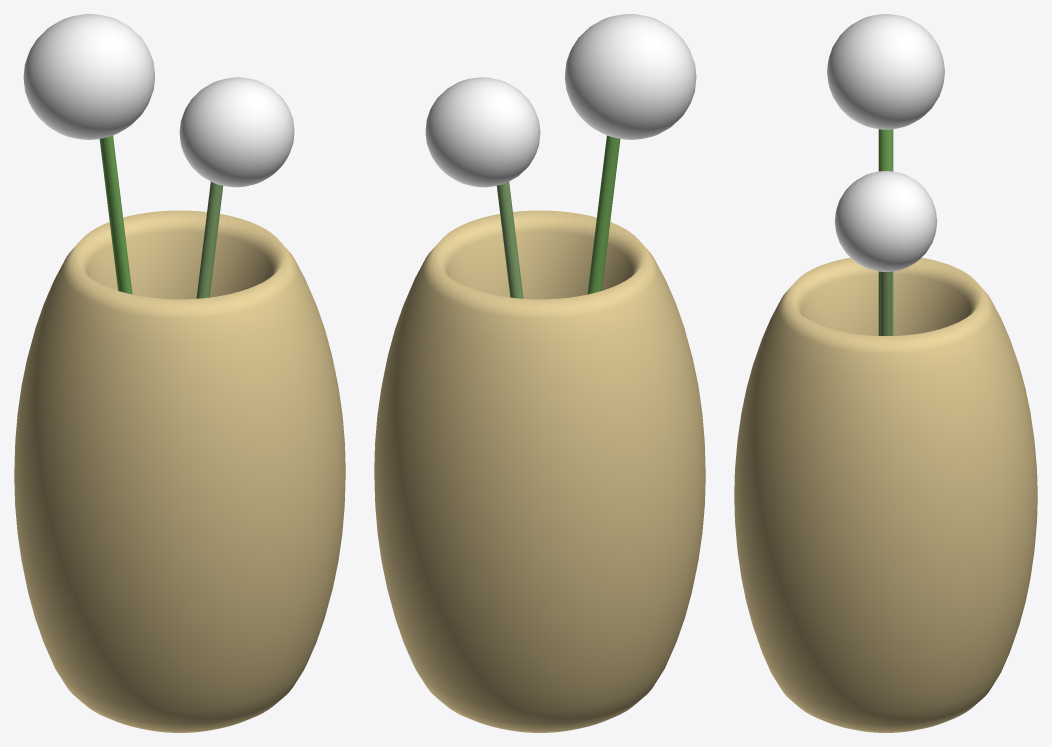
File: future_vase.glb
3 views of the same model, side by side, from view 1: azimuth 30°, elevation 25°; view 2: azimuth 150°, elevation 25°; view 3: azimuth 270°, elevation 25° (orthographic). The views are drawn at different scales.
Parts seen in each view (by area): view 1: Sphere_2, Sphere.002_6, Sphere.001_4, Cylinder.001_5, Cylinder_3; view 2: Sphere_2, Sphere.002_6, Sphere.001_4, Cylinder.001_5, Cylinder_3; view 3: Sphere_2, Sphere.002_6, Sphere.001_4, Cylinder.001_5, Cylinder_3.
Part boxes in pixels (x1=…): Sphere_2: x1=14, y1=210, x2=345, y2=732; Sphere.002_6: x1=23, y1=14, x2=154, y2=139; Sphere.001_4: x1=179, y1=77, x2=294, y2=187; Cylinder.001_5: x1=99, y1=135, x2=132, y2=294; Cylinder_3: x1=196, y1=182, x2=223, y2=298; Sphere_2: x1=374, y1=210, x2=705, y2=732; Sphere.002_6: x1=565, y1=14, x2=696, y2=139; Sphere.001_4: x1=425, y1=77, x2=540, y2=187; Cylinder.001_5: x1=587, y1=135, x2=620, y2=294; Cylinder_3: x1=496, y1=182, x2=523, y2=298; Sphere_2: x1=734, y1=257, x2=1037, y2=732; Sphere.002_6: x1=827, y1=14, x2=944, y2=129; Sphere.001_4: x1=834, y1=171, x2=937, y2=271; Cylinder.001_5: x1=878, y1=129, x2=893, y2=335; Cylinder_3: x1=880, y1=271, x2=891, y2=335.
Bounding box in the file's own units: 2.01 × 4.69 × 1.97.
